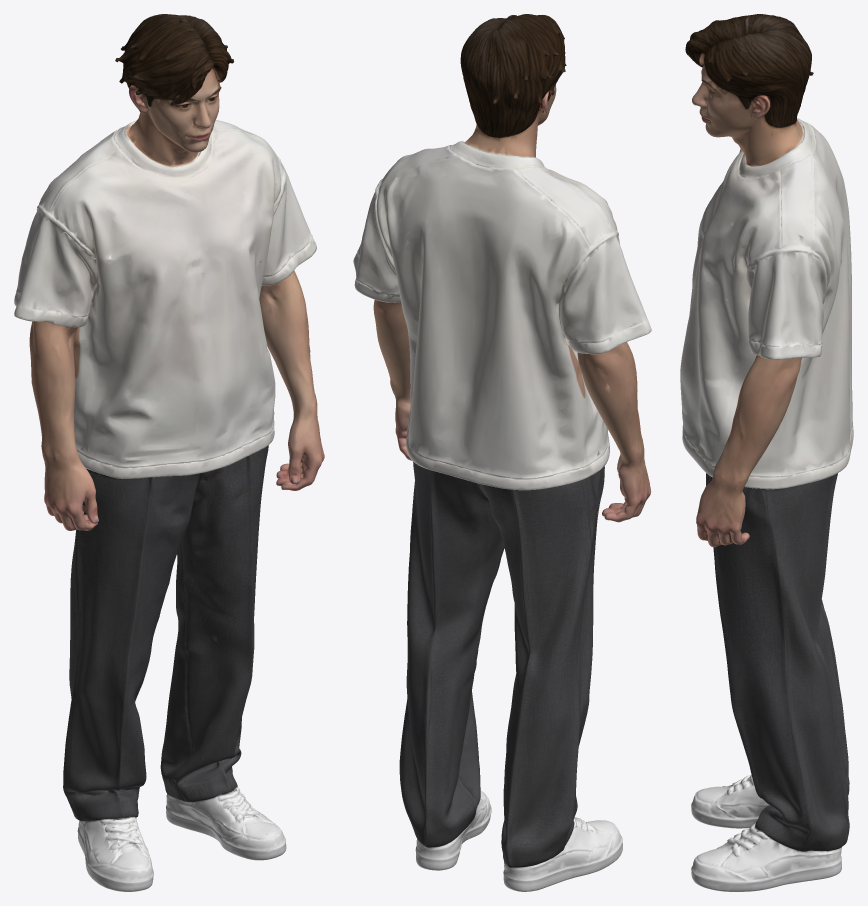
The model's file is male.glb.
3 views of the same model, side by side, from view 1: azimuth 30°, elevation 25°; view 2: azimuth 150°, elevation 25°; view 3: azimuth 270°, elevation 25° (orthographic).
Parts seen in each view (by area): view 1: Dada_male_complete_outfit; view 2: Dada_male_complete_outfit; view 3: Dada_male_complete_outfit.
Part boxes in pixels (left/top/right/bottom): Dada_male_complete_outfit: left=14, top=14, right=324, bottom=891; Dada_male_complete_outfit: left=353, top=14, right=651, bottom=891; Dada_male_complete_outfit: left=680, top=14, right=853, bottom=891.
Bounding box in the file's own units: 0.3666 × 0.9806 × 0.1847.
Materials: 1 (1 with a texture image).
